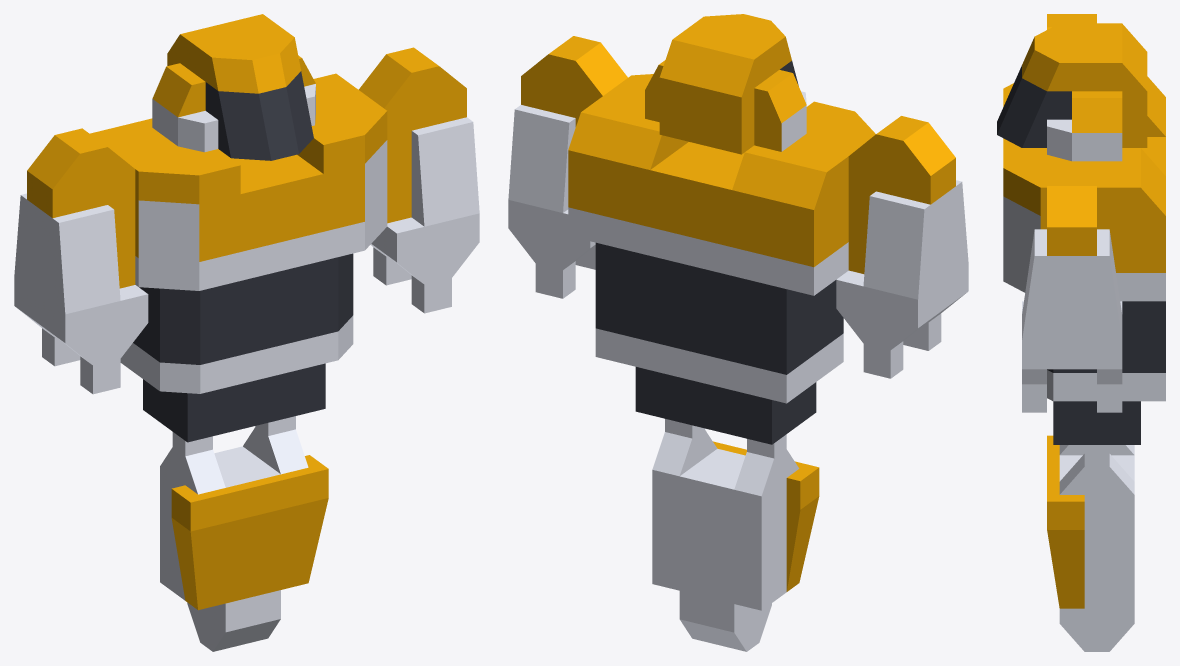
File: robot.fbx
3 renders of one model, left to right at view 1: azimuth 30°, elevation 25°; view 2: azimuth 150°, elevation 25°; view 3: azimuth 270°, elevation 25°, orthographic.
Visible parts, largest first — view 1: chest_body, leg_thin (×2), leg_padding, head_marine; view 2: chest_body, leg_thin (×2), leg_padding, head_marine; view 3: chest_body, leg_thin (×2), head_marine, leg_padding.
Part boxes in pixels (x1,y1,x2,y2): chest_body: (90, 73, 387, 442); leg_thin (×2): (14, 47, 479, 394); leg_padding: (160, 416, 328, 651); head_marine: (152, 14, 315, 160); chest_body: (568, 74, 875, 444); leg_thin (×2): (508, 36, 968, 378); leg_padding: (652, 419, 819, 651); head_marine: (645, 14, 806, 154); chest_body: (1003, 76, 1165, 444); leg_thin (×2): (1022, 14, 1122, 412); head_marine: (997, 23, 1147, 161); leg_padding: (1047, 435, 1134, 651).
Size of the model in its own units: 15 by 21 by 5.4.
